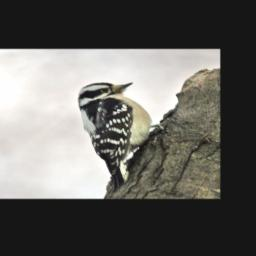Woodpecker: (75, 80, 178, 195)
